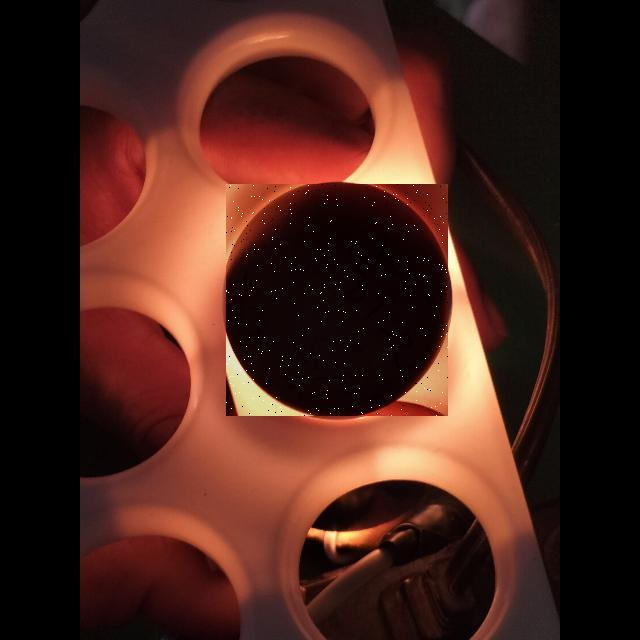Fertile: (226, 184, 448, 416)
